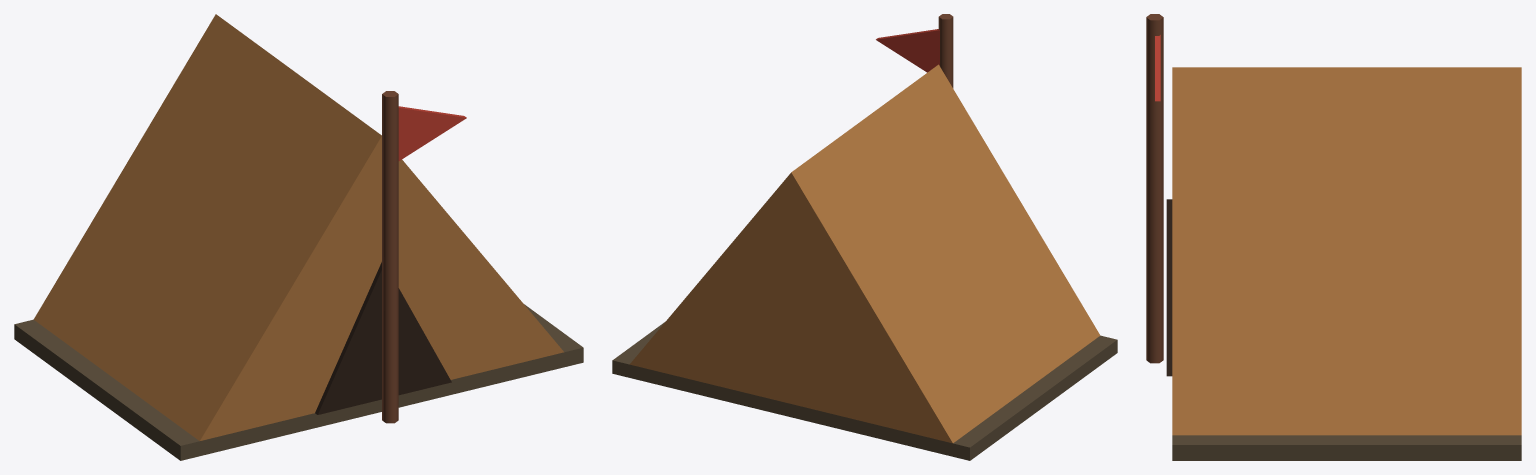
Rendered from camp_tent.fbx.
3 views of the same model, side by side, from view 1: azimuth 30°, elevation 25°; view 2: azimuth 150°, elevation 25°; view 3: azimuth 270°, elevation 25° (orthographic). The views are drawn at different scales.
Visible parts, largest first — view 1: camp_tent; view 2: camp_tent; view 3: camp_tent.
Part boxes in pixels (x1,y1,x2,y2): camp_tent: [14, 14, 583, 460]; camp_tent: [612, 14, 1117, 460]; camp_tent: [1146, 14, 1521, 460].
Bounding box in the file's own units: 0.84 × 0.65 × 0.645.
